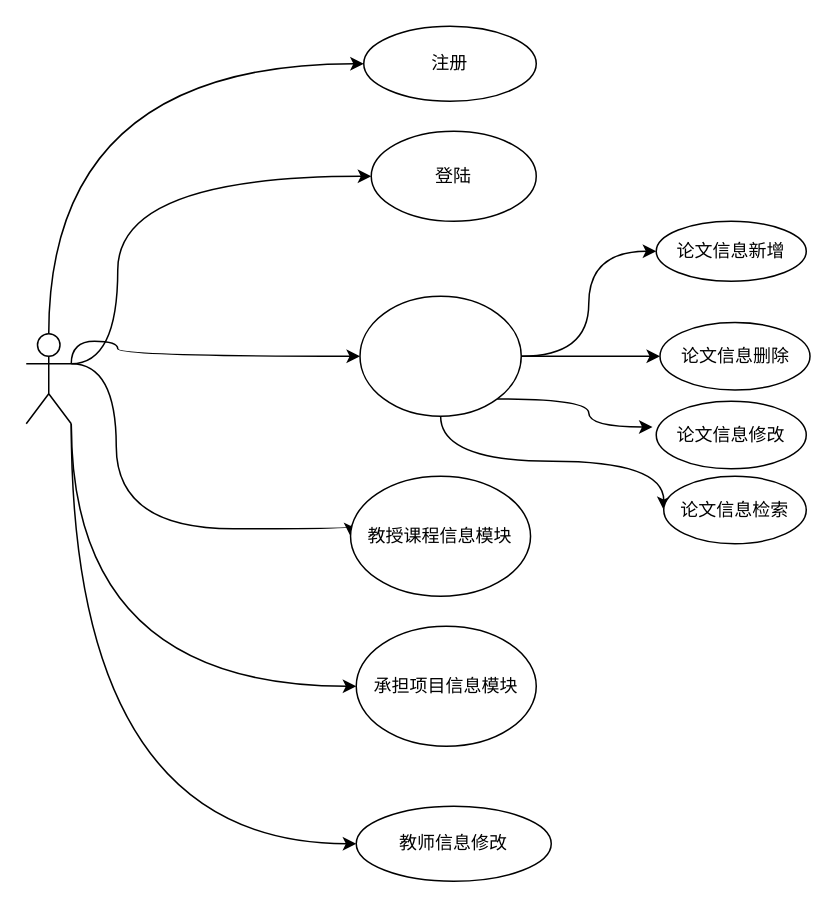
Image size: 837x908. Some labels were removed from this diagram. The shapes that lost their labels are listed below. From the top down, each one's box as (x1, y1, x2, y2) in pixels, then its label:
(358, 295, 521, 416): 发表论文信息模块
(25, 332, 71, 424): 用户
